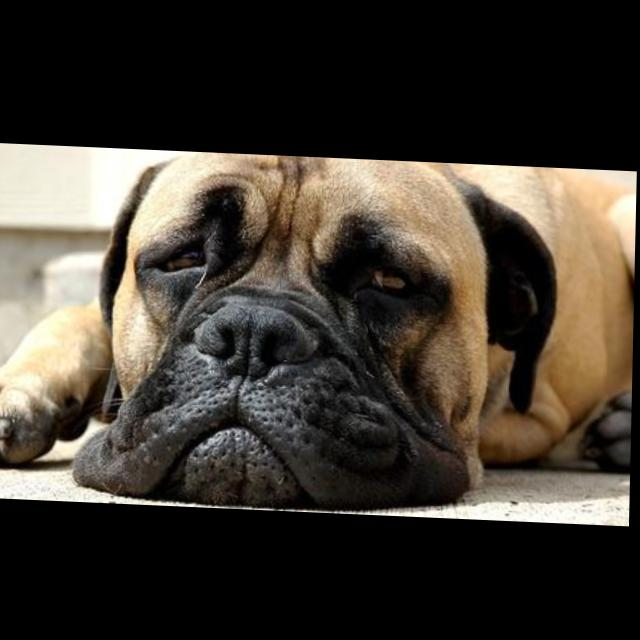bullmastiff: (1, 143, 639, 517)
